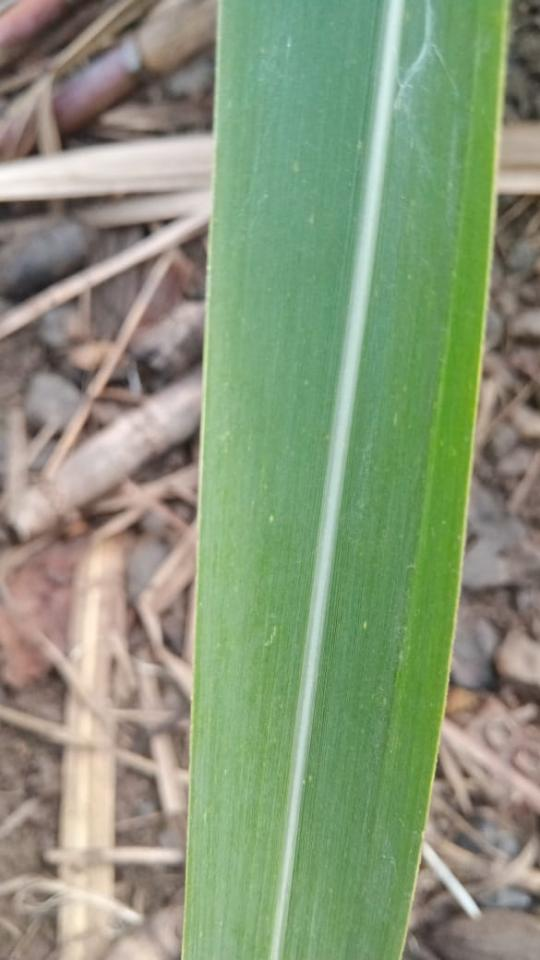Healthy: (184, 0, 509, 959)
